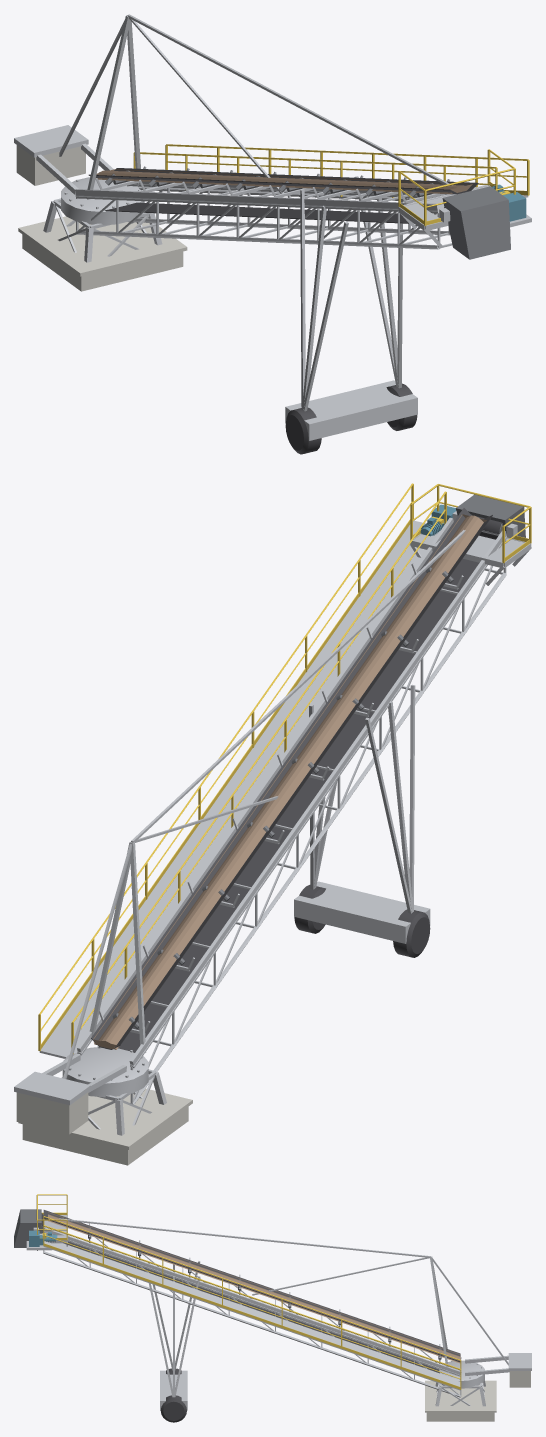
File: ore-processing-and-haulage-plant-radial-stacker-8b8f21c3.glb
The picture shows the model from 3 angles, top to bottom: view 1: azimuth 30°, elevation 25°; view 2: azimuth 150°, elevation 25°; view 3: azimuth 270°, elevation 25°; orthographic projection. The views are drawn at different scales.
Visible parts, largest first — view 1: boom (×7), radial-stacker, wheel-left, wheel-right; view 2: boom (×6), radial-stacker, wheel-left; view 3: boom (×7), radial-stacker, wheel-right.
Boxes of the visible parts, left/top/right/bottom form: boom (×7): left=14, top=14, right=531, bottom=440; radial-stacker: left=18, top=177, right=187, bottom=291; wheel-left: left=285, top=407, right=321, bottom=454; wheel-right: left=386, top=383, right=417, bottom=430; boom (×6): left=14, top=483, right=531, bottom=1134; radial-stacker: left=18, top=1046, right=192, bottom=1165; wheel-left: left=393, top=909, right=430, bottom=957; boom (×7): left=14, top=1194, right=531, bottom=1410; radial-stacker: left=425, top=1360, right=496, bottom=1421; wheel-right: left=160, top=1395, right=186, bottom=1422.
Bounding box in the file's own units: 3.81 × 10.4 × 24.37.
